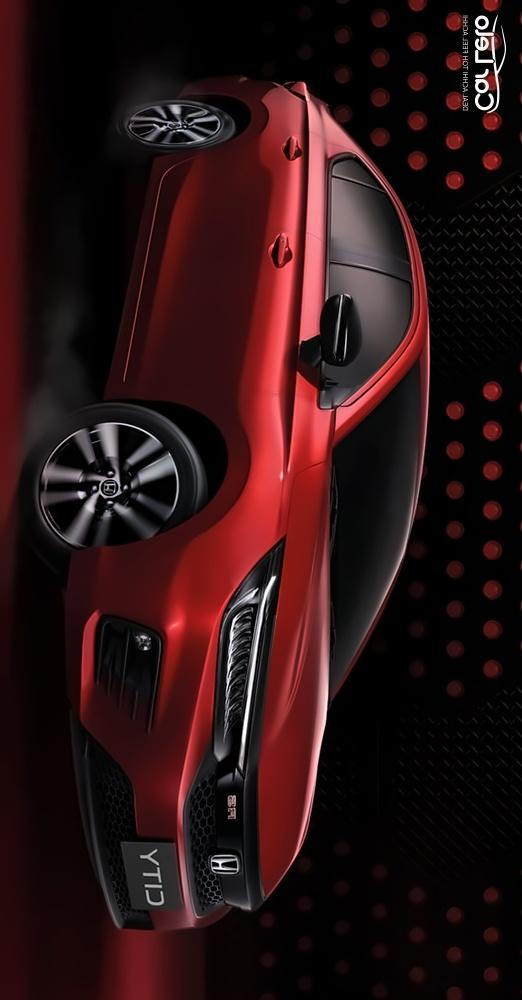Car hood: (251, 456, 337, 904)
Driver-s door - -F-R-: (124, 232, 425, 386)
Fender - -F-R-: (98, 386, 341, 534)
Fender - -R-R-: (160, 97, 342, 163)
Front bumper: (60, 527, 213, 936)
Headlight - -R-: (209, 534, 294, 775)
Passenger-s door - -R-R-: (149, 130, 424, 233)
Rear bumper: (167, 67, 248, 111)
Rear light - -R-: (268, 73, 322, 102)
Side bumper - -R-: (95, 140, 169, 408)
Side mirror - -R-: (304, 283, 367, 373)
